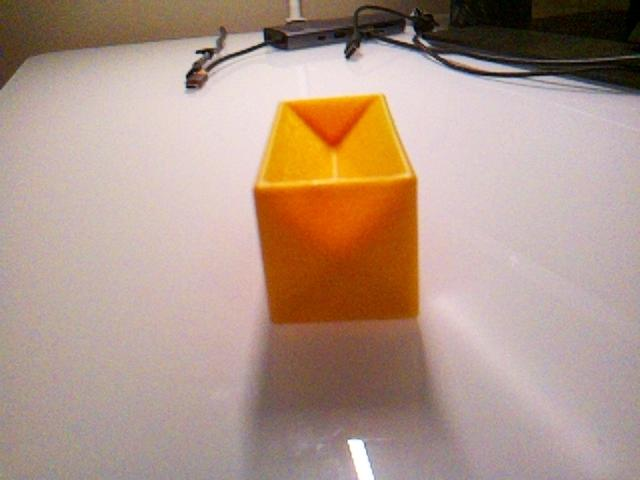yellow: (253, 92, 422, 325)
